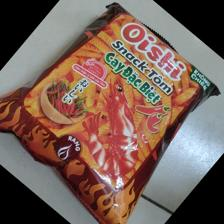Oishi_Cay: (1, 2, 222, 224)
